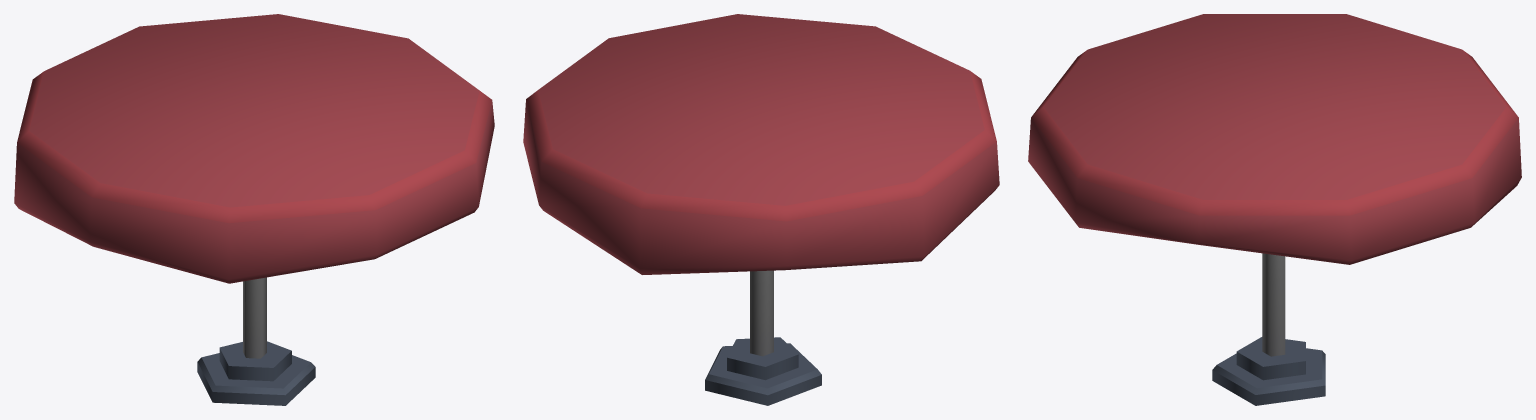
File: Table_1_H.fbx
3 renders of one model, left to right at view 1: azimuth 30°, elevation 25°; view 2: azimuth 150°, elevation 25°; view 3: azimuth 270°, elevation 25°, orthographic.
Parts seen in each view (by area): view 1: Table_1_H; view 2: Table_1_H; view 3: Table_1_H.
Part boxes in pixels (bbox=[...]): Table_1_H: bbox=[14, 14, 494, 405]; Table_1_H: bbox=[523, 14, 999, 405]; Table_1_H: bbox=[1028, 14, 1521, 405].
Size of the model in its own units: 134 by 86.3 by 141.
